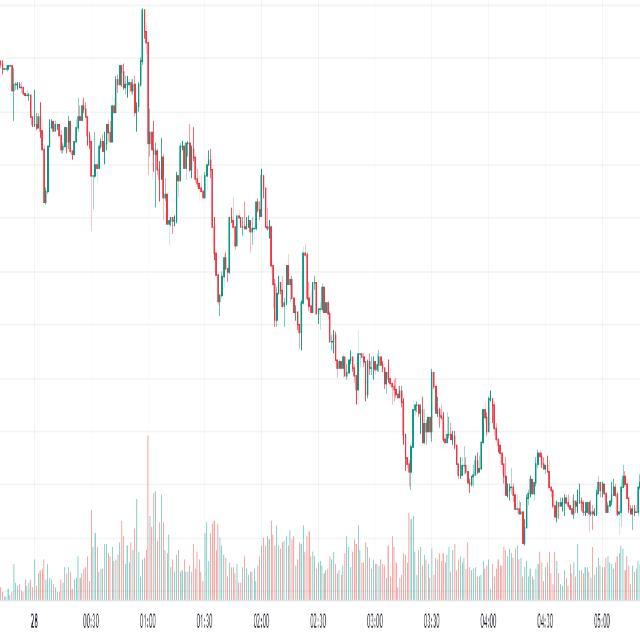Descending-Triangle: (265, 166, 355, 336)
Head-Shoulders: (99, 0, 176, 249)
